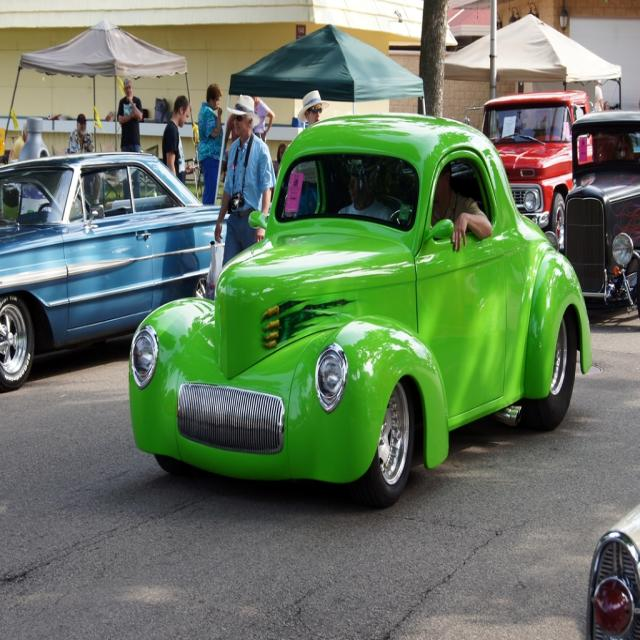car: (118, 106, 588, 513)
